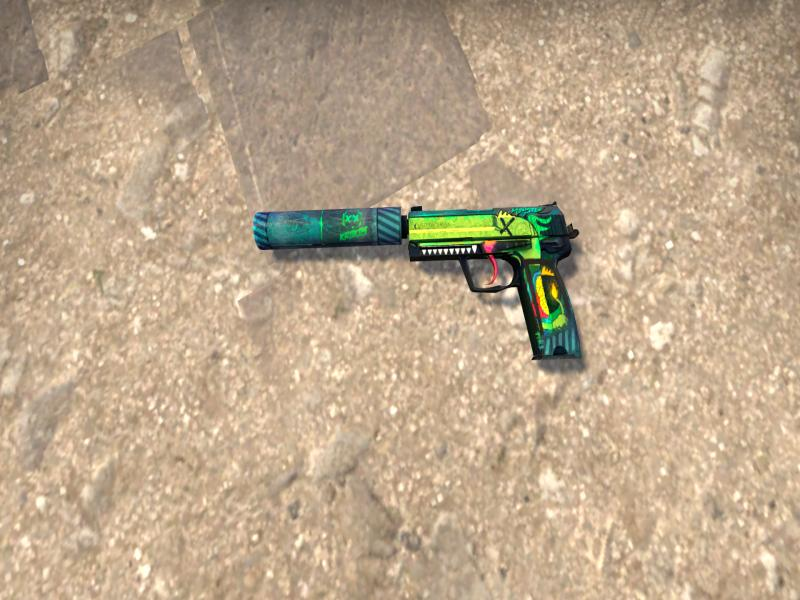USP: (253, 201, 581, 358)
